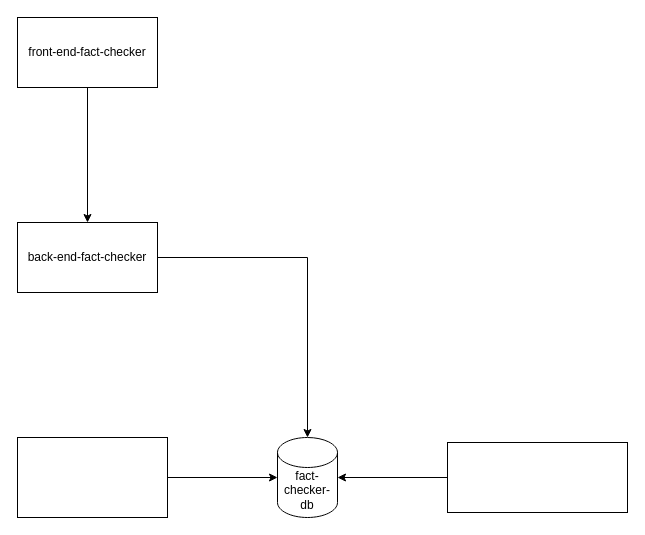
The diagram is 645 pixels wide and 535 high, and some of its shapes have lost their labels. The centre of each missing label's shape, as x and y in pixels:
job-fact-check-crawler: point (92, 477)
ml-fact-verification-engine: point (537, 477)
